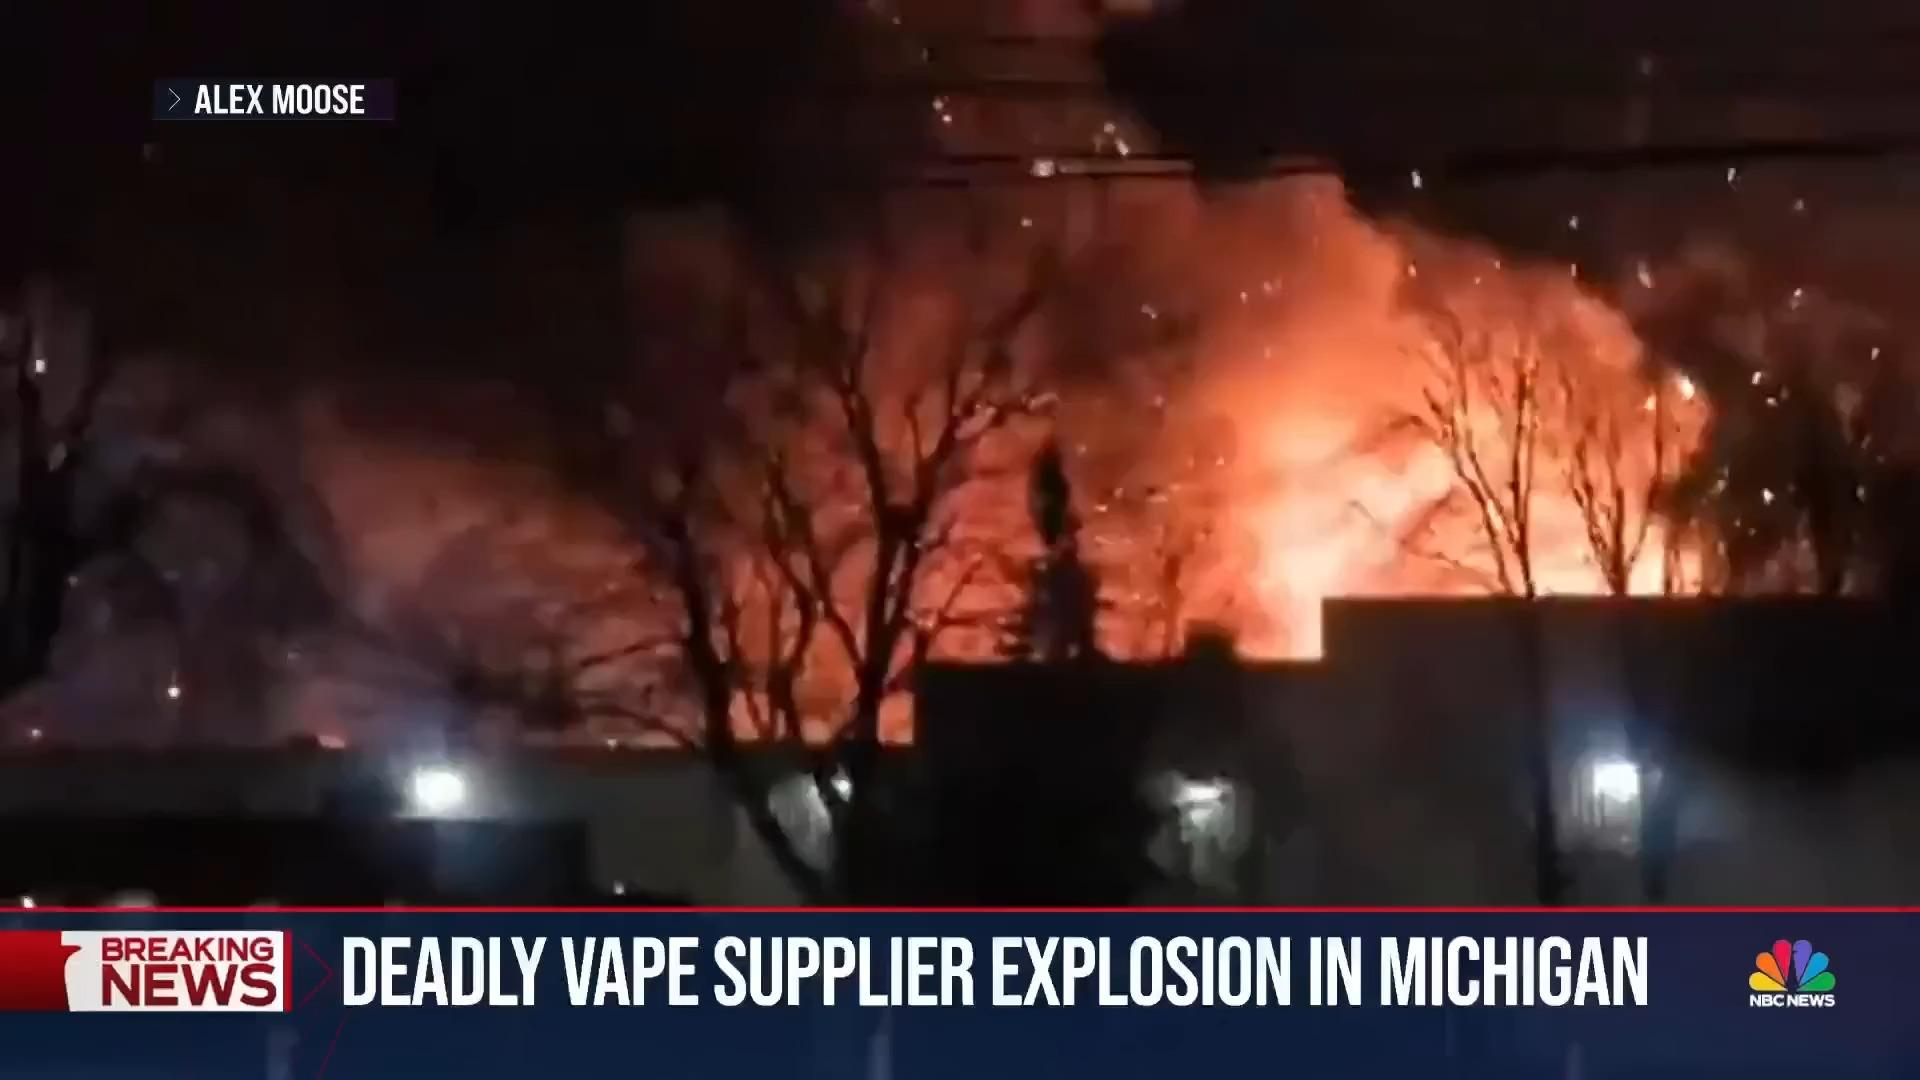fire: (1064, 181, 1764, 671)
